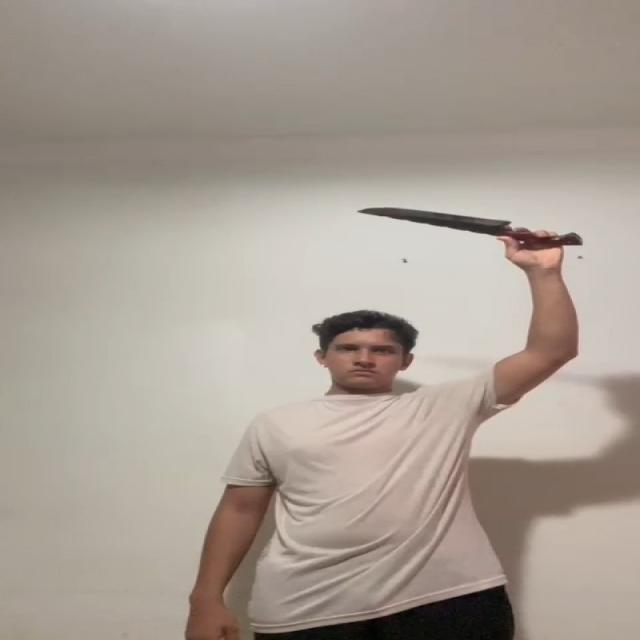knife: (357, 206, 515, 230)
